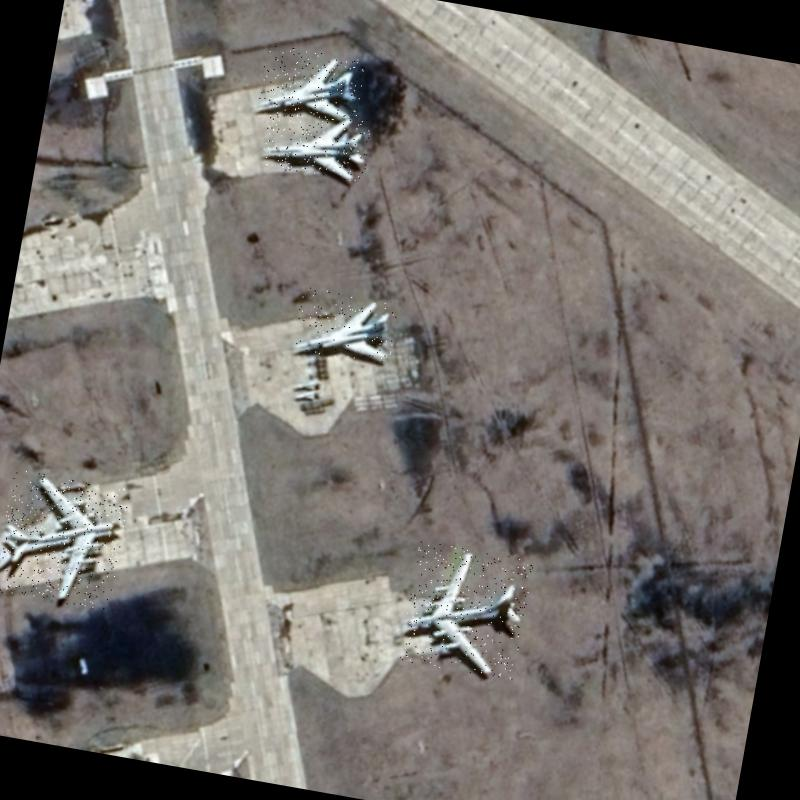A12: (260, 101, 374, 184), (257, 44, 366, 126), (292, 286, 400, 368)
A17: (399, 540, 534, 681), (0, 469, 130, 612)
